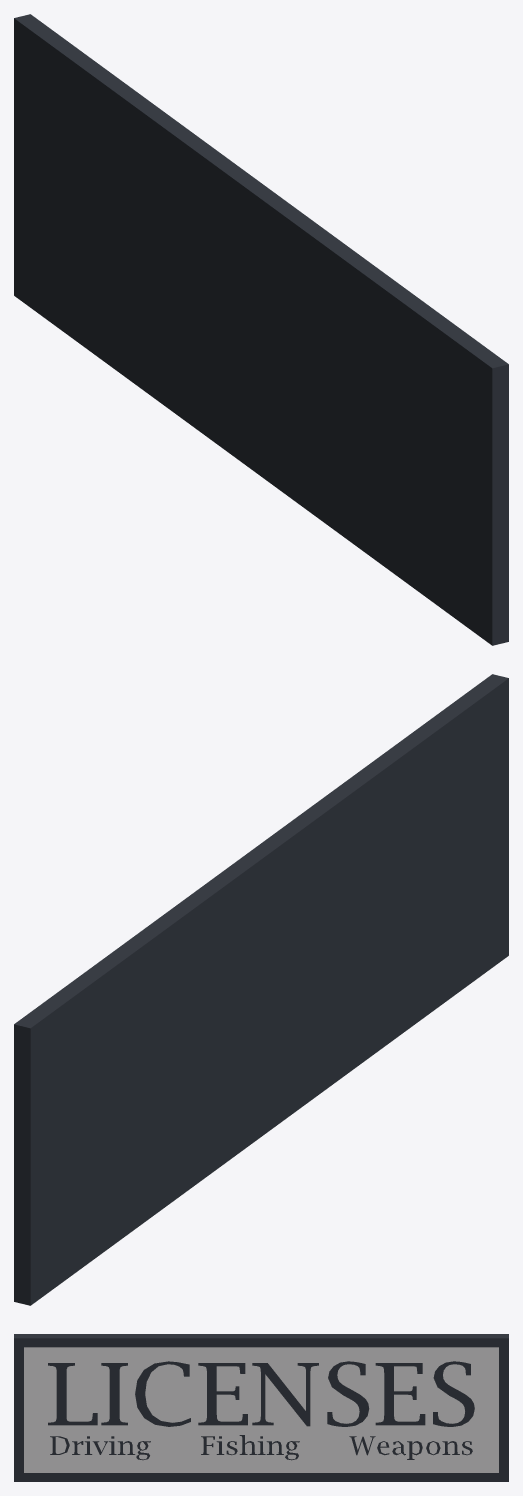
File: SM_billboard_Licenses.gltf
3 renders of one model, top to bottom at view 1: azimuth 30°, elevation 25°; view 2: azimuth 150°, elevation 25°; view 3: azimuth 270°, elevation 25°, orthographic. The views are drawn at different scales.
Visible parts, largest first — view 1: SM_billboard_Licenses; view 2: SM_billboard_Licenses; view 3: SM_billboard_Licenses.
Boxes of the visible parts, box(x1,y1,x2,y2) form: SM_billboard_Licenses: box(14, 14, 508, 645); SM_billboard_Licenses: box(14, 674, 508, 1305); SM_billboard_Licenses: box(14, 1334, 508, 1481).
Bounding box in the file's own units: 0.1182 × 1.6 × 5.
1 material, 1 textured.
